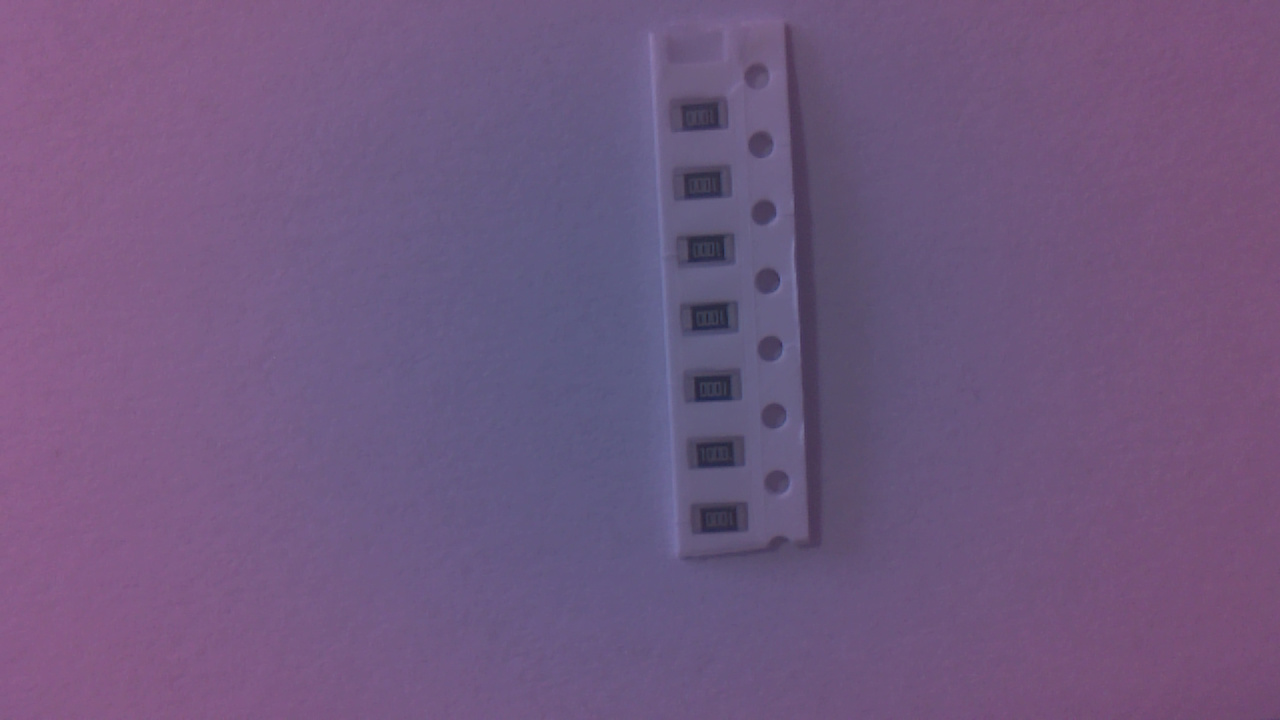Resistor: (695, 504, 754, 542), (692, 441, 756, 476), (677, 169, 738, 205), (690, 374, 750, 409), (681, 236, 744, 269), (674, 105, 736, 138), (687, 307, 745, 341)
